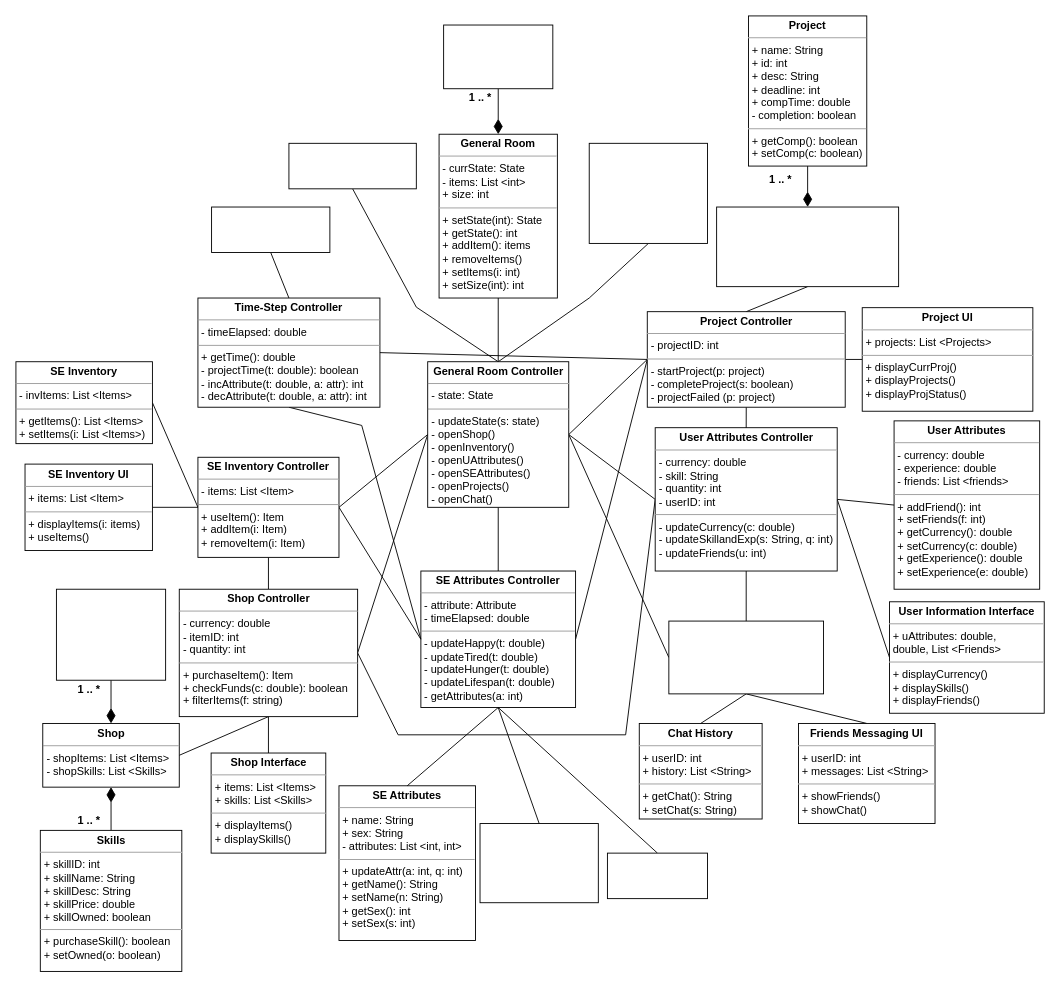
The diagram is 1060 pixels wide and 987 high, and some of its shapes have lost their labels. Here are the shapes that lost their labels. From the top down, the box of each, then its label:
(443, 24, 553, 89): State + stateName: String + stateID: int
(288, 142, 416, 189): Settings Interface + quitGame(): boolean
(588, 142, 708, 243): General Room Interface + currView: int + getView(): int + updateView(v: int)
(211, 206, 330, 253): Time-Step - timeElapsed: double
(716, 206, 899, 287): Projects - projList: List <Project> + getProjectInfo(p: id): boolean
(56, 588, 166, 680): Item + itemID: int + itemName: String + itemDesc: String + itemPrice: double
(668, 620, 824, 694): Friends and Chat Controller - message: String - updateChat(m: String)
(479, 823, 598, 903): SE Creation UI + displayCreation() + displayNameInput() + displaySexInput()
(607, 852, 708, 899): SE Attributes UI + displayLevels()
